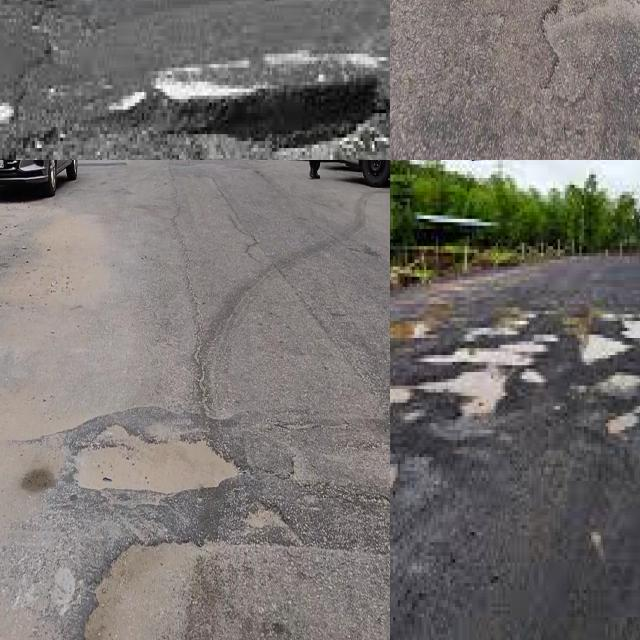Pothole: (172, 54, 390, 152), (77, 531, 214, 640), (73, 420, 246, 499), (390, 328, 555, 406), (390, 290, 450, 342), (582, 315, 640, 365), (598, 372, 640, 437)
